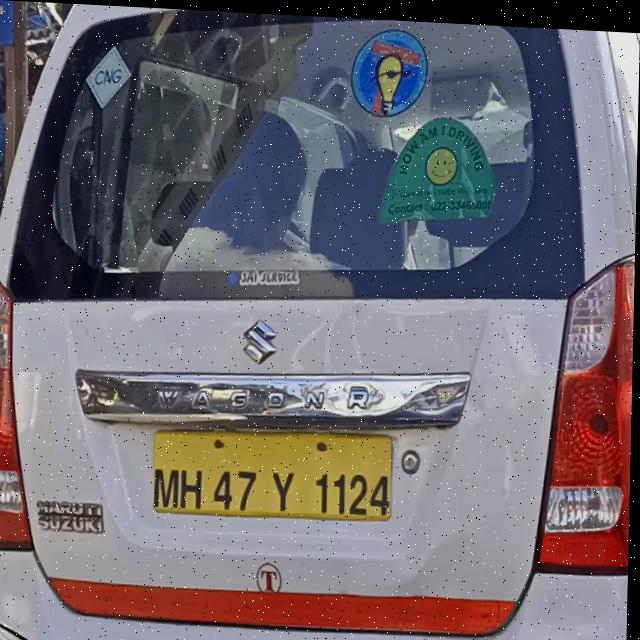plate: (153, 418, 398, 524)
